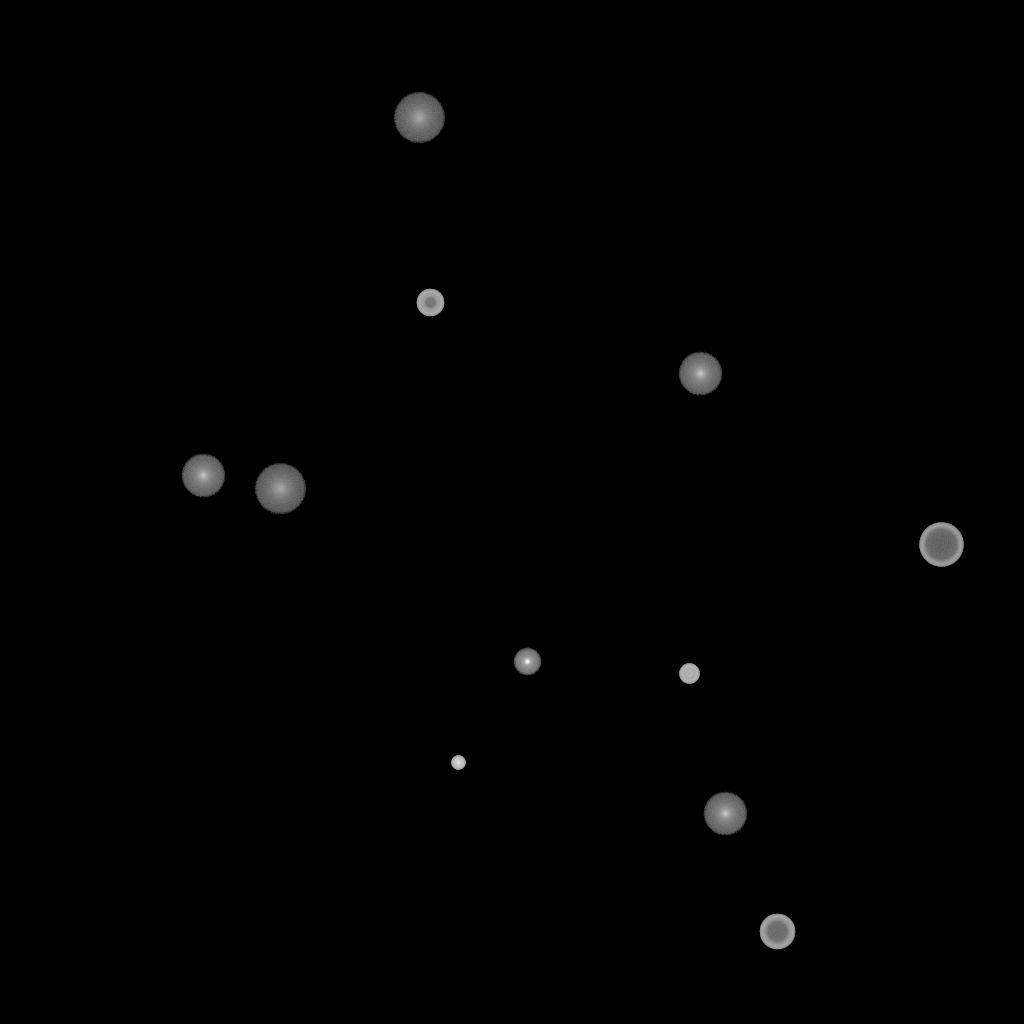depth:-10: (513, 648, 541, 676)
depth:-30: (451, 756, 465, 770)
depth:-40: (679, 664, 699, 684)
depth:-50: (416, 289, 444, 317)
depth:-60: (759, 914, 795, 950)
depth:-70: (919, 523, 963, 567)
depth:10: (181, 454, 225, 498), (678, 352, 722, 396), (703, 792, 747, 836)
depth:20: (254, 464, 306, 514), (393, 93, 445, 143)
